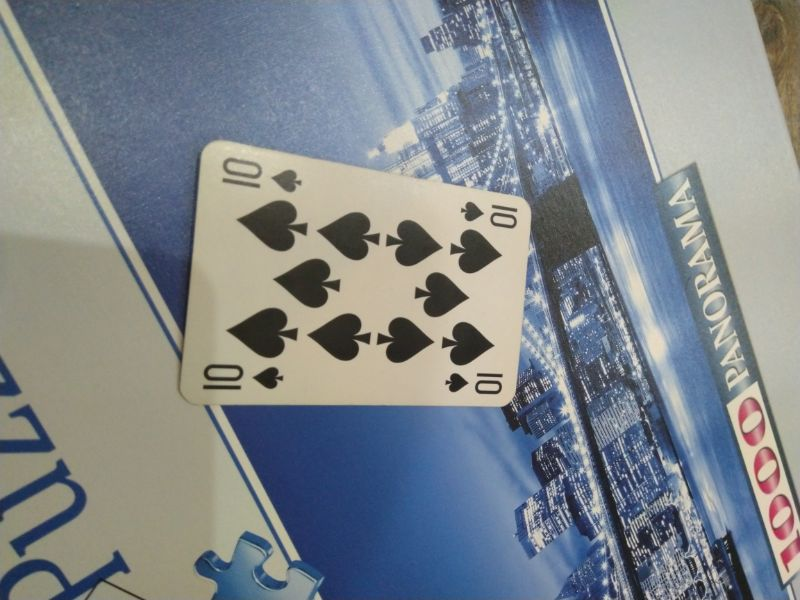Ts: (217, 154, 304, 195), (199, 361, 287, 395), (458, 195, 519, 229), (445, 368, 506, 398)
